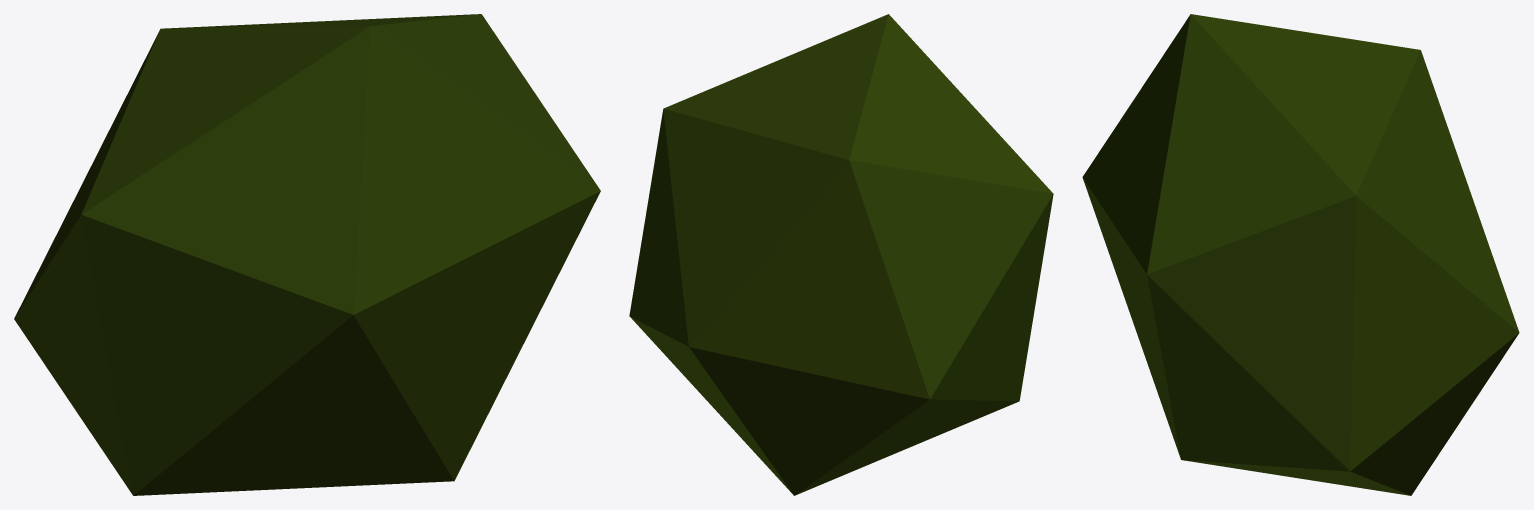
The model's file is Bush_1_Hanin.fbx.
3 renders of one model, left to right at view 1: azimuth 30°, elevation 25°; view 2: azimuth 150°, elevation 25°; view 3: azimuth 270°, elevation 25°, orthographic. The views are drawn at different scales.
Visible parts, largest first — view 1: pPlatonic28; view 2: pPlatonic28; view 3: pPlatonic28.
Part boxes in pixels (bbox=[...]): pPlatonic28: bbox=[14, 14, 600, 495]; pPlatonic28: bbox=[629, 14, 1053, 495]; pPlatonic28: bbox=[1082, 14, 1519, 495].
Size of the model in its own units: 1.67 by 1.72 by 1.42.
